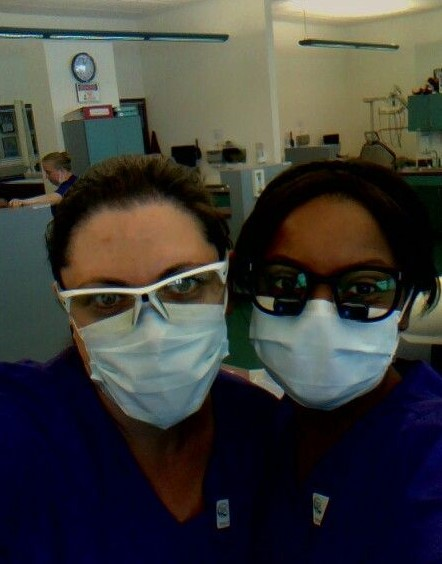face_no_mask: (40, 154, 72, 183)
face_with_mask: (44, 154, 231, 428), (237, 159, 429, 409)
